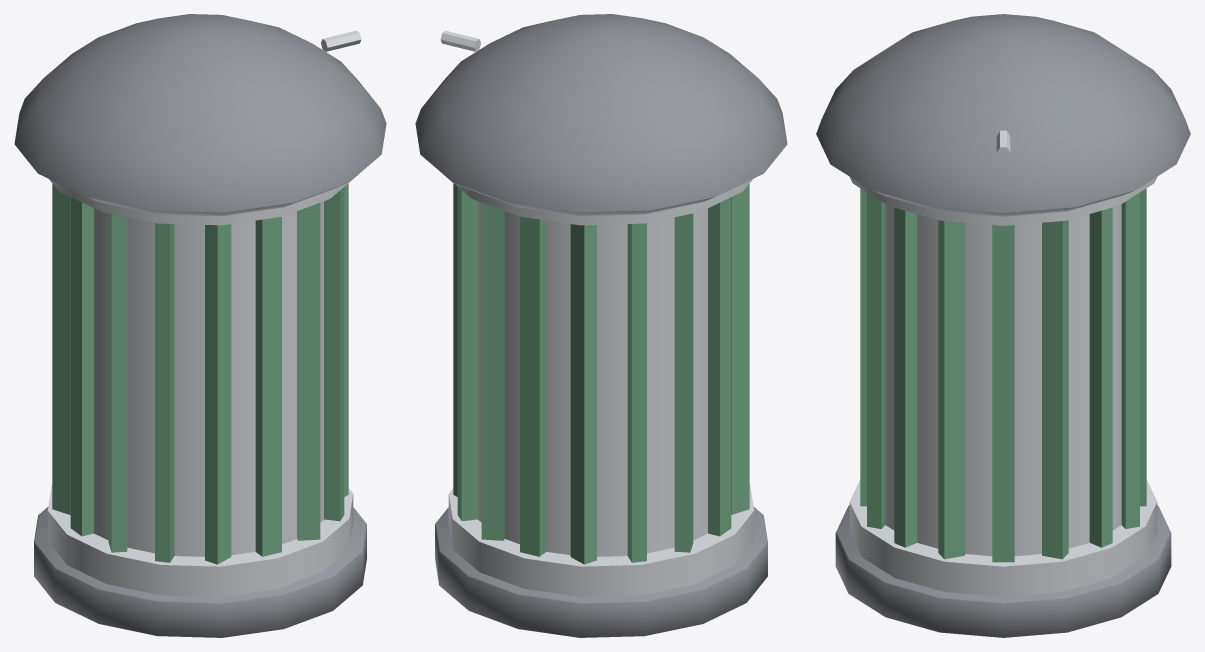
The model's file is LitterCan_Street.fbx.
3 views of the same model, side by side, from view 1: azimuth 30°, elevation 25°; view 2: azimuth 150°, elevation 25°; view 3: azimuth 270°, elevation 25° (orthographic).
Parts seen in each view (by area): view 1: LOD0; view 2: LOD0; view 3: LOD0.
Boxes of the visible parts, x1,y1,x2,y2 form: LOD0: (14, 14, 386, 637); LOD0: (415, 14, 787, 637); LOD0: (816, 14, 1190, 637).
Size of what is drawn, in the model's own units: 67 by 105 by 67.
